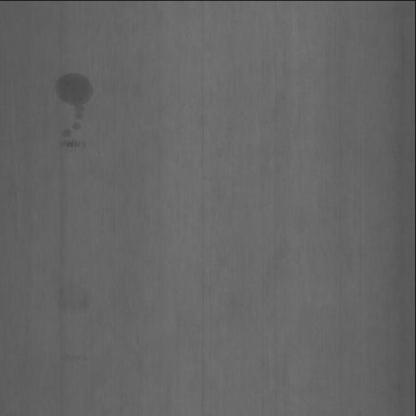oil_spot: (48, 60, 98, 146)
